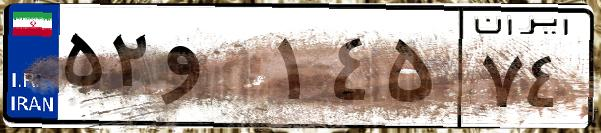1: (270, 28, 330, 110)
2: (110, 28, 158, 98)
4: (330, 28, 385, 110), (525, 38, 570, 115)
5: (385, 28, 445, 110), (57, 26, 110, 100)
7: (475, 38, 525, 113)
و: (158, 20, 270, 120)
